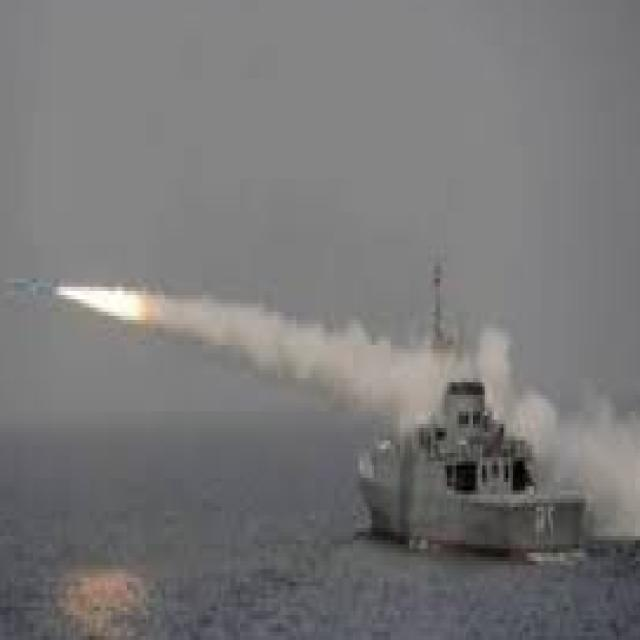navalvessels: (343, 322, 604, 577)
